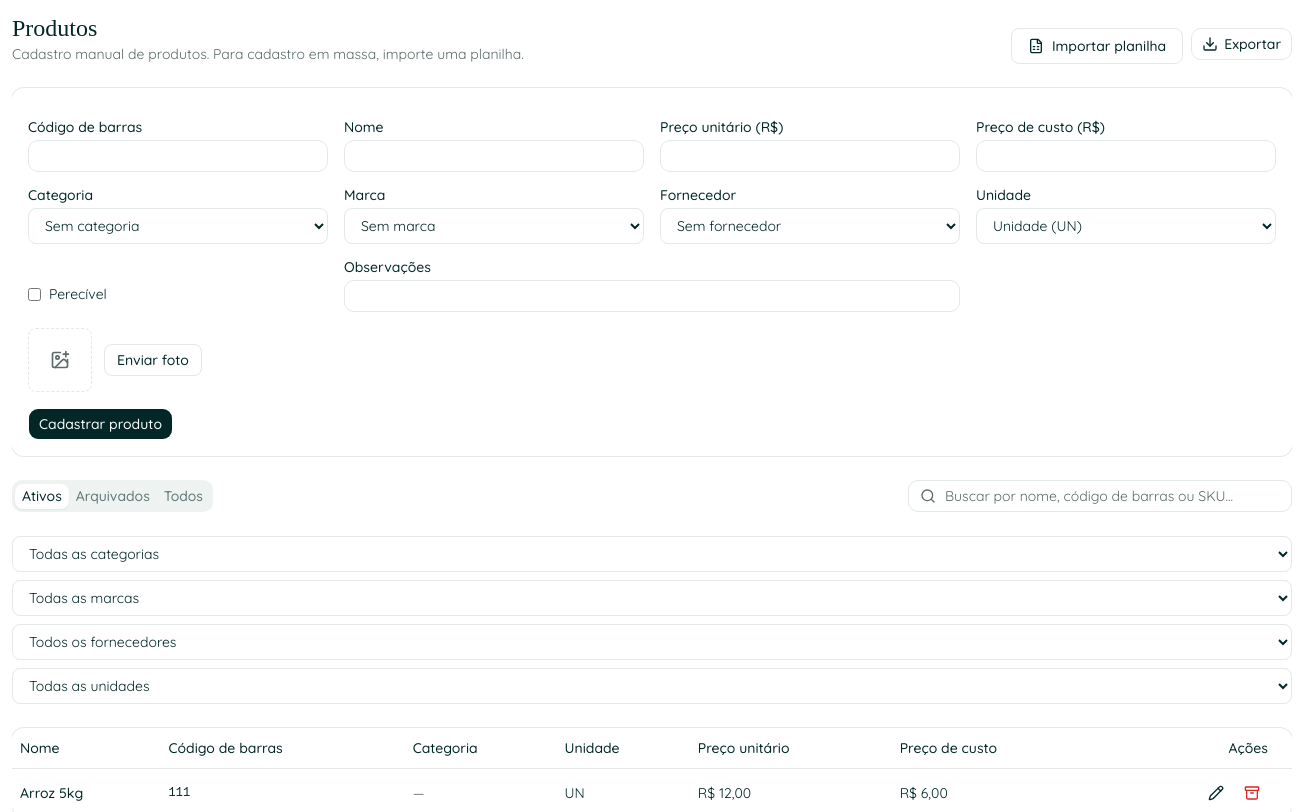
Scenario: ProductsPage — cadastro de código de produto arquivado (etapa 1.3) › mudar o código de barras depois do conflito retira a oferta de reativar (ela era daquele código)
Check: the text "Arroz 5kg" is shown, box top-left (20, 784), bottom-right (83, 802)
Type "999" into the field labelled "Código de barras".
click(178, 156); type("999")  # box top-left (28, 140), bottom-right (328, 172)
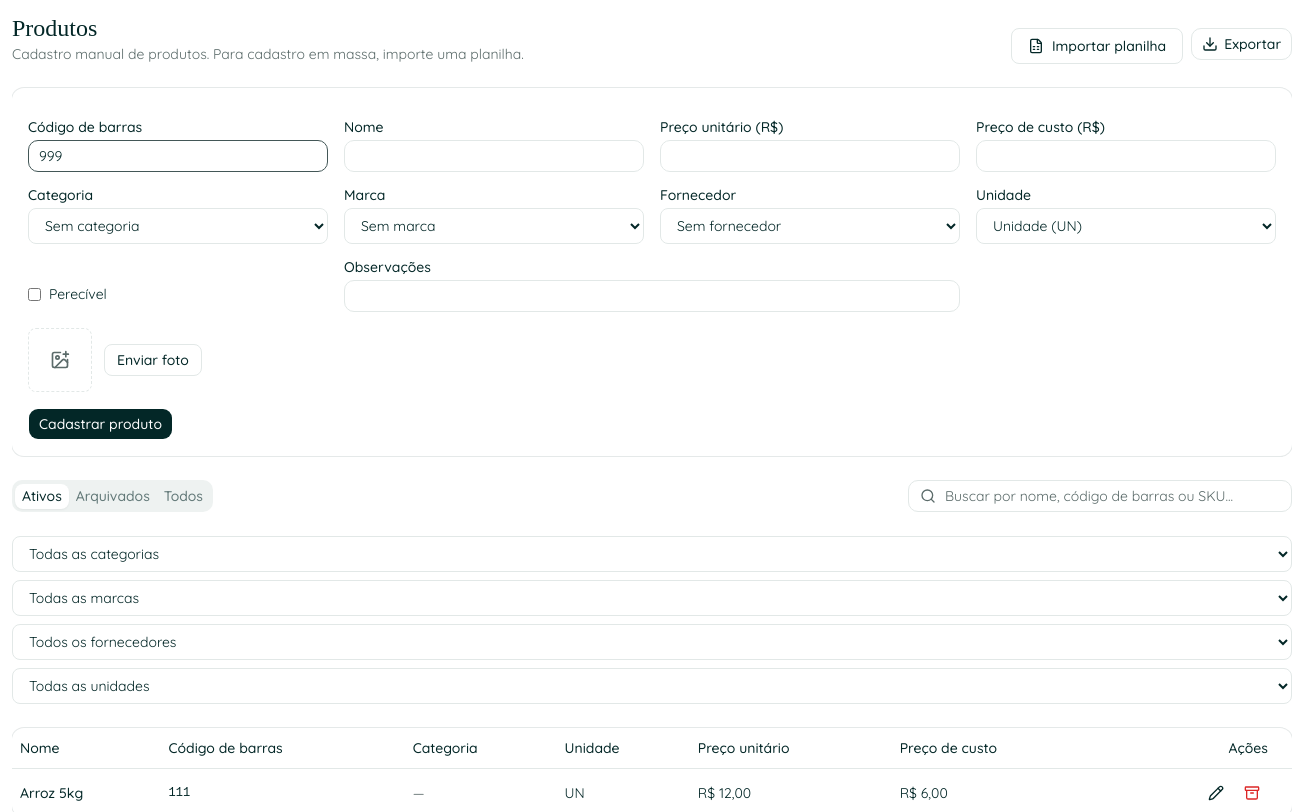
Type "Macarrão" into the field labelled "Nome".
click(494, 156); type("Macarrão")  # box top-left (344, 140), bottom-right (644, 172)
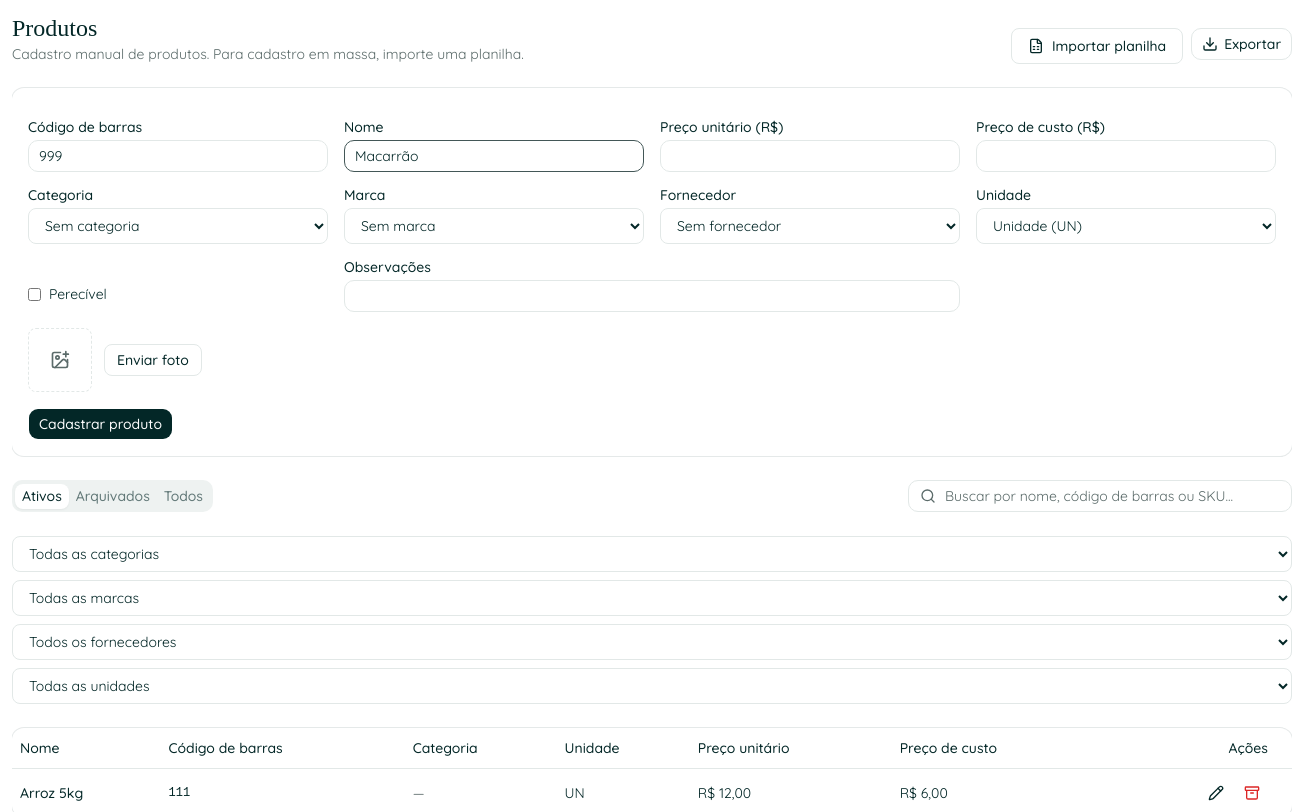
Type "7.5" into the number field labelled "Preço unitário (R$)".
click(810, 156); type("7.5")  # box top-left (660, 140), bottom-right (960, 172)
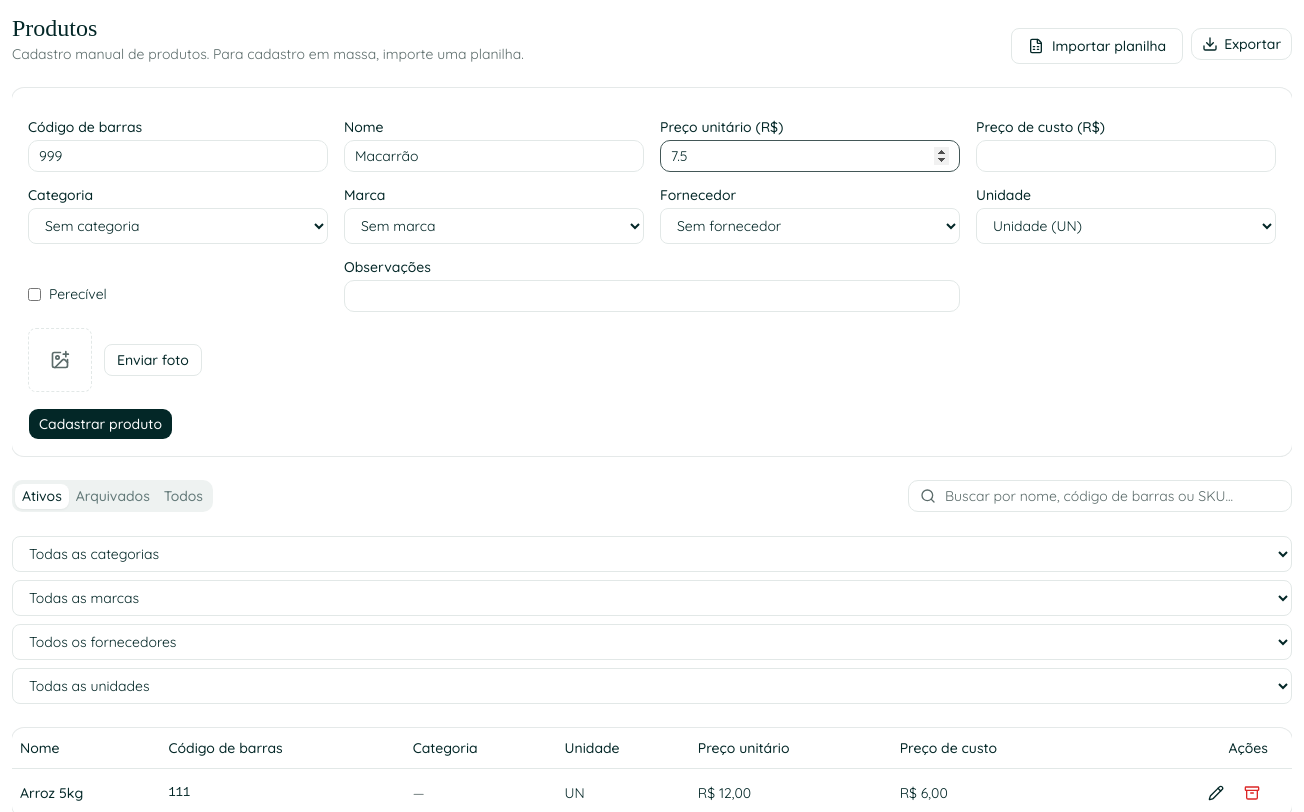
Click the button "Cadastrar produto".
click(100, 424)  # box top-left (28, 408), bottom-right (173, 440)
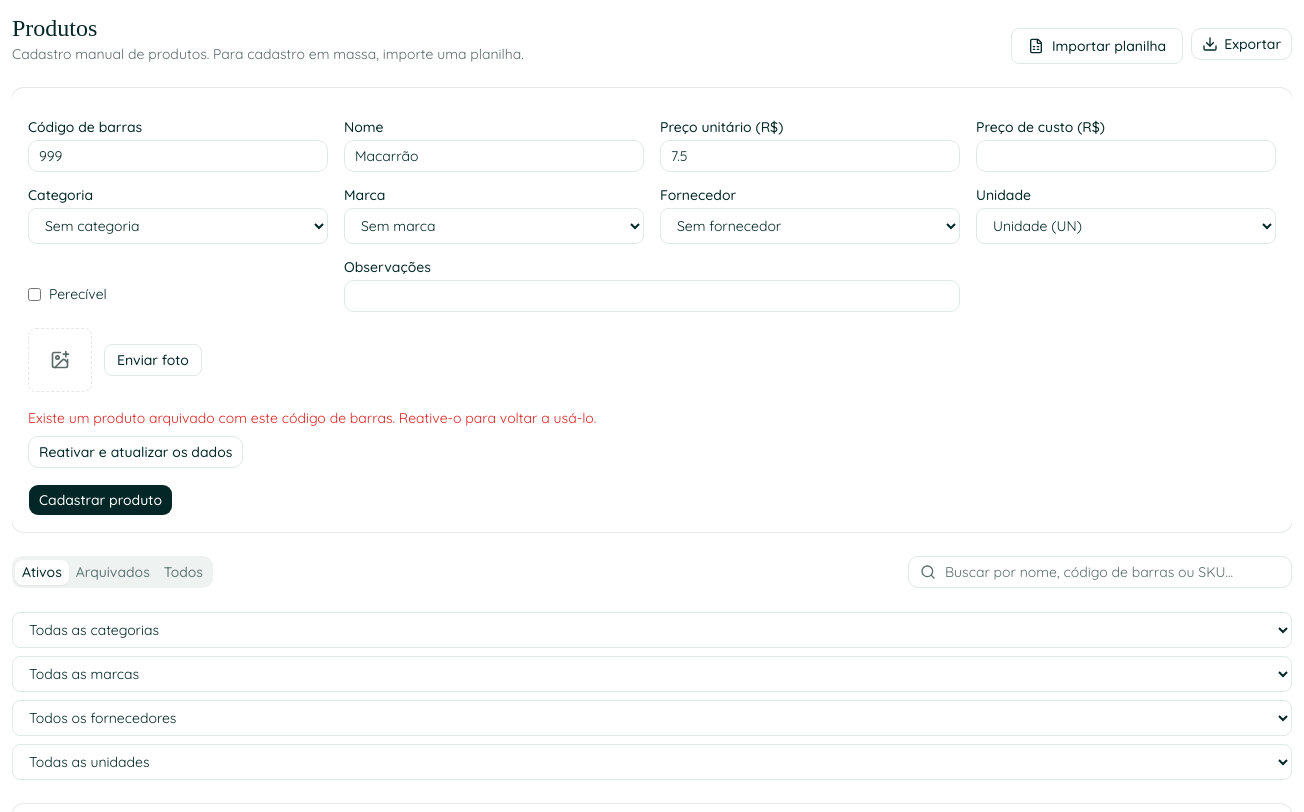
Check: the button "Reativar e atualizar os dados" is shown, box top-left (28, 436), bottom-right (243, 468)
Type "8" into the field showing "999".
click(178, 156); type("8")  # box top-left (28, 140), bottom-right (328, 172)
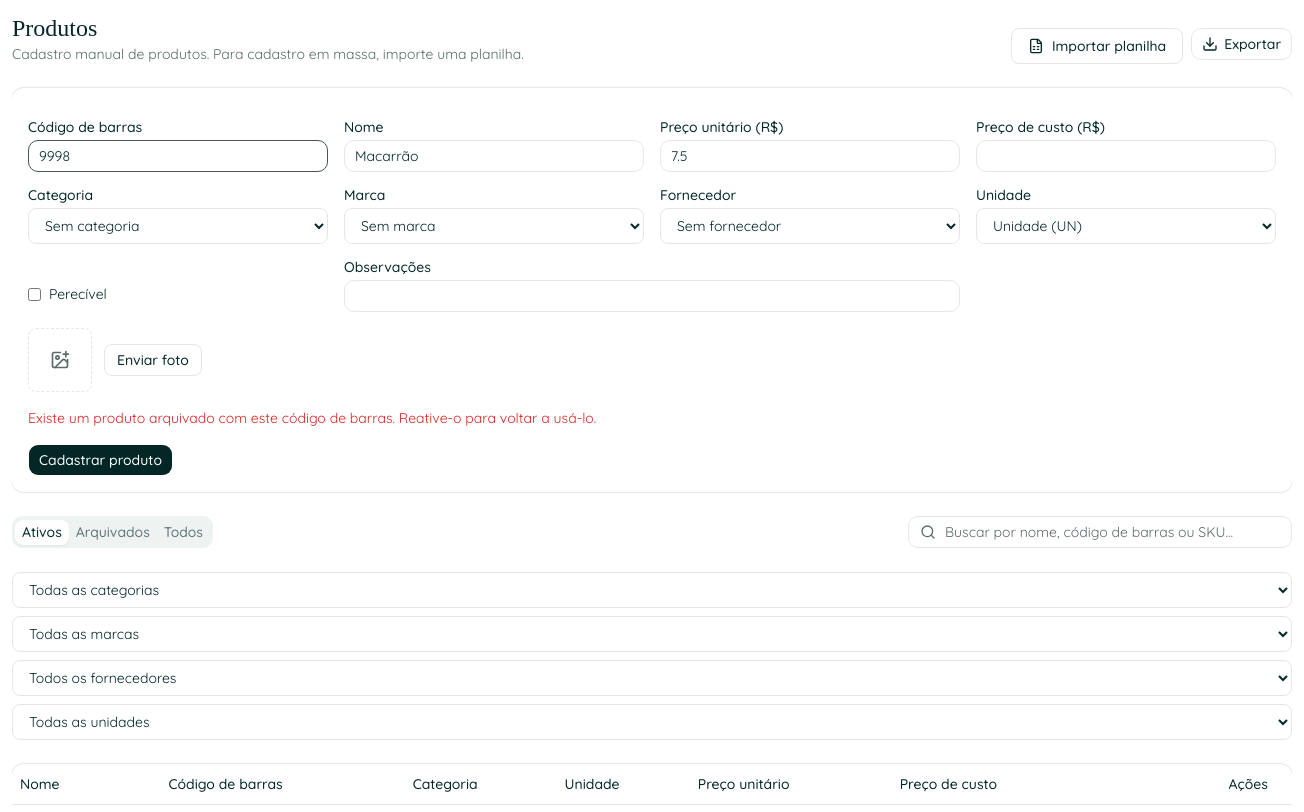
Check: the button "Reativar e atualizar os dados" is gone
